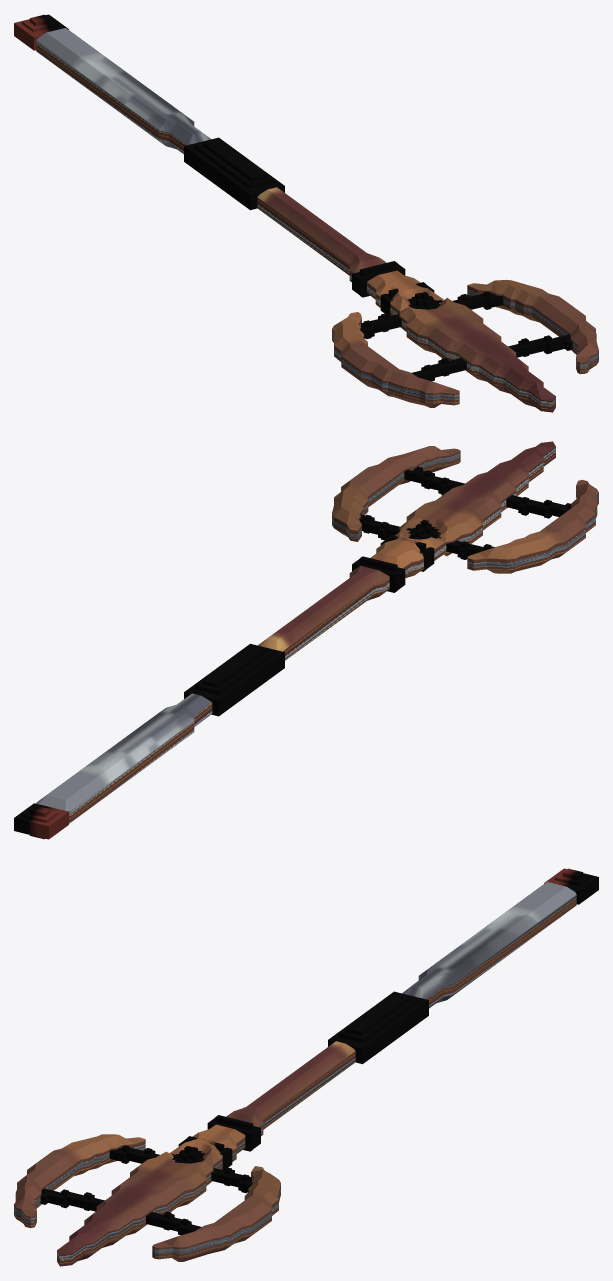
The model's file is fangtian_ji.obj.
3 renders of one model, top to bottom at view 1: azimuth 30°, elevation 25°; view 2: azimuth 150°, elevation 25°; view 3: azimuth 330°, elevation 25°, orthographic.
Parts seen in each view (by area): view 1: fangtian_ji; view 2: fangtian_ji; view 3: fangtian_ji.
Part boxes in pixels (x1,y1,x2,y2): fangtian_ji: (14, 14, 598, 412); fangtian_ji: (14, 441, 598, 839); fangtian_ji: (14, 868, 598, 1266).
Size of the model in its own units: 0.4687 by 0.0781 by 1.89.
